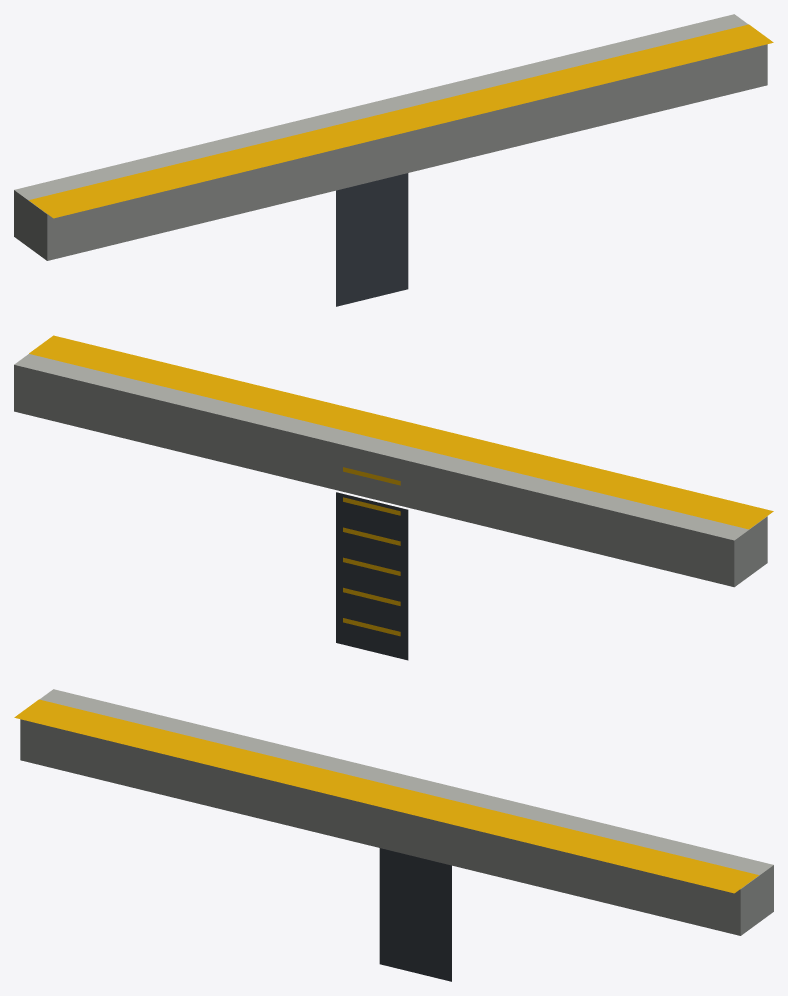
File: quay-edge.glb
3 renders of one model, top to bottom at view 1: azimuth 30°, elevation 25°; view 2: azimuth 150°, elevation 25°; view 3: azimuth 330°, elevation 25°, orthographic.
Parts seen in each view (by area): view 1: edge; view 2: edge; view 3: edge.
Part boxes in pixels (box(x1,y1,x2,y2)): edge: box(14, 14, 773, 306); edge: box(14, 335, 773, 660); edge: box(14, 689, 773, 981).
Bounding box in the file's own units: 10 × 2.62 × 1.01.
1 material, 1 textured.
